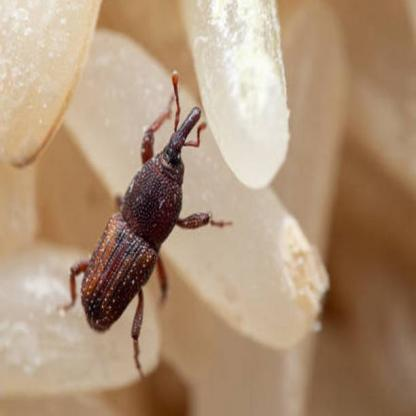rice-bug: (78, 107, 207, 340)
